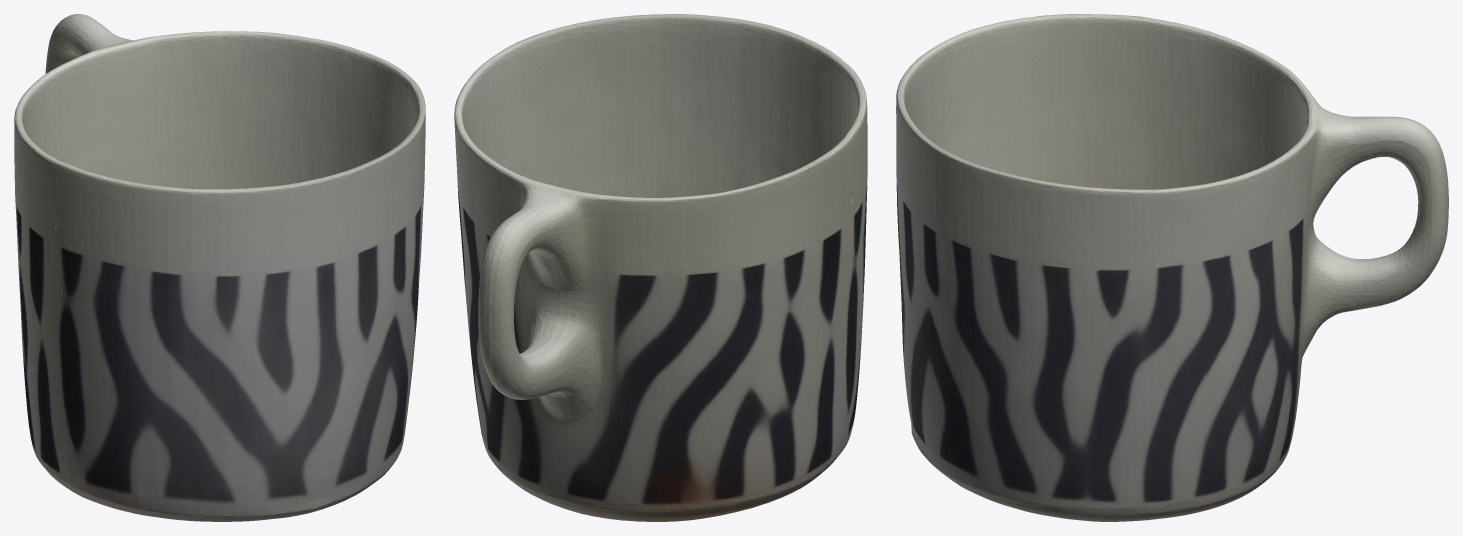
3 renders of one model, left to right at view 1: azimuth 30°, elevation 25°; view 2: azimuth 150°, elevation 25°; view 3: azimuth 270°, elevation 25°, orthographic. The views are drawn at different scales.
Parts seen in each view (by area): view 1: g0; view 2: g0; view 3: g0.
Part boxes in pixels (x1=…): g0: x1=14, y1=14, x2=425, y2=521; g0: x1=454, y1=14, x2=867, y2=521; g0: x1=896, y1=14, x2=1448, y2=521.
Bounding box in the file's own units: 1.52 × 1.46 × 2.
1 material, 1 textured.
